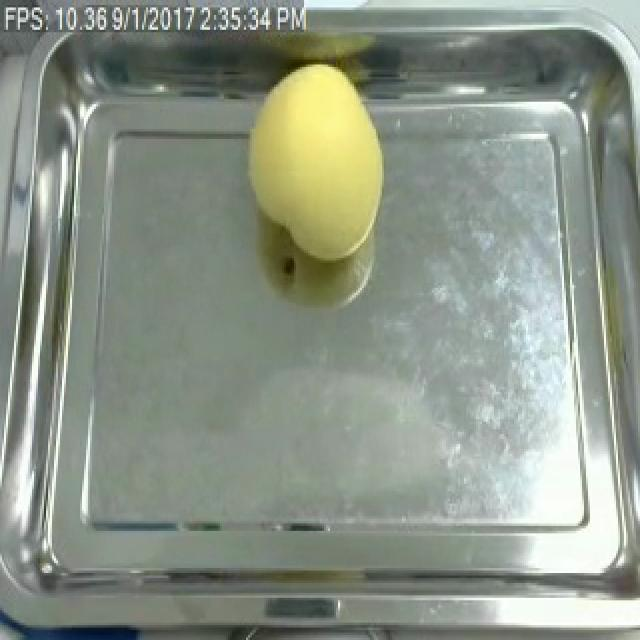Fruit: (238, 52, 394, 268)
